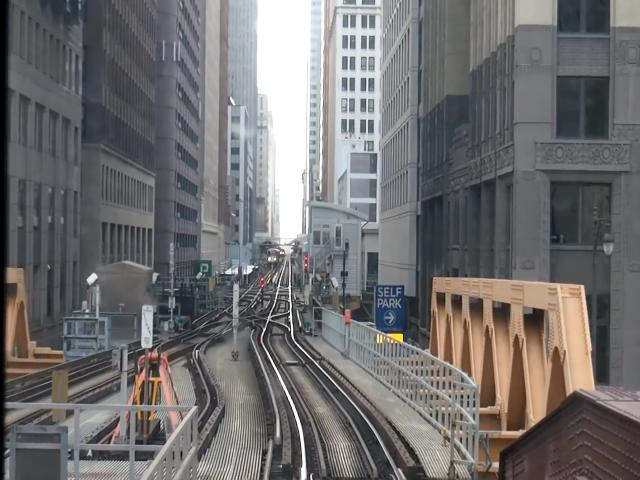signal light: (261, 277, 266, 308), (306, 256, 310, 283)
